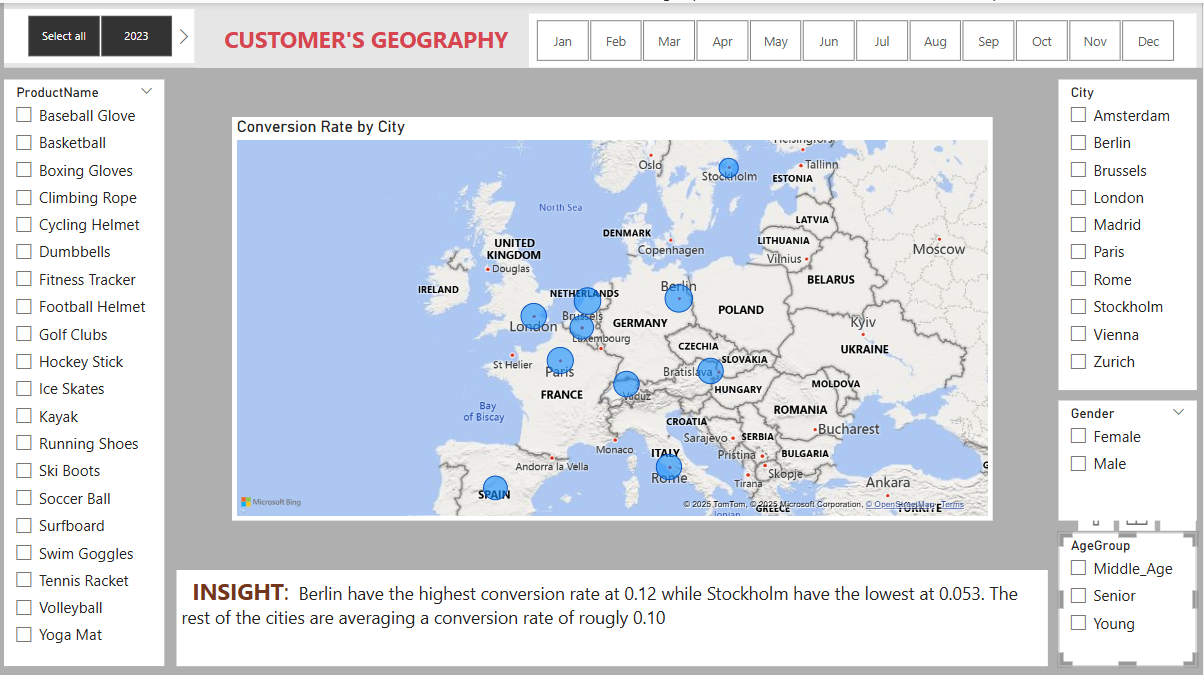

The dashboard page shown, as its layout file describes it:
{"tool":"powerbi","page":{"name":"Customer's Geography","canvas":[1280,720],"ordinal":5},"visuals":[{"type":"textbox","box":[9.5,0,1270.9,68.4],"z":0},{"type":"slicer","fields":{"Values":["products.ProductName"]},"box":[9.5,81.1,170.2,621.9],"z":1000},{"type":"slicer","fields":{"Values":["customers.AgeGroup"]},"box":[1127.7,561.5,146.3,141.6],"z":2000},{"type":"slicer","fields":{"Values":["geography.City"]},"box":[1127.7,81.1,146.3,329.3],"z":3000},{"type":"slicer","fields":{"Values":["customers.Gender"]},"box":[1127.7,421.5,146.3,127.2],"z":4000},{"type":"slicer","fields":{"Values":["Calendar.Year"]},"box":[9.5,6.4,202,57.3],"z":5000},{"type":"slicer","fields":{"Values":["Calendar.MonthNameShort"]},"box":[548.8,11.1,725.3,57.3],"z":6000},{"type":"textbox","box":[211.6,8,354.7,60.4],"z":7000},{"type":"textbox","box":[192.5,601.3,924.1,101.8],"z":8000},{"type":"map","fields":{"Category":["geography.City"],"Size":["Calculations.Conversion Rate"]},"box":[251.3,120.9,806.4,427.9],"z":8001}]}

Visuals, with their boxes in screenshot pixels (x1, y1, x2, y2), scaled from the page's 1280x720 canvas onto the 1204x675 screenshot:
textbox: x1=9 y1=0 x2=1203 y2=64
slicer - products.ProductName: x1=9 y1=76 x2=169 y2=659
slicer - customers.AgeGroup: x1=1061 y1=526 x2=1198 y2=659
slicer - geography.City: x1=1061 y1=76 x2=1198 y2=385
slicer - customers.Gender: x1=1061 y1=395 x2=1198 y2=514
slicer - Calendar.Year: x1=9 y1=6 x2=199 y2=60
slicer - Calendar.MonthNameShort: x1=516 y1=10 x2=1198 y2=64
textbox: x1=199 y1=8 x2=533 y2=64
textbox: x1=181 y1=564 x2=1050 y2=659
map - geography.City x Calculations.Conversion Rate: x1=236 y1=113 x2=995 y2=514
